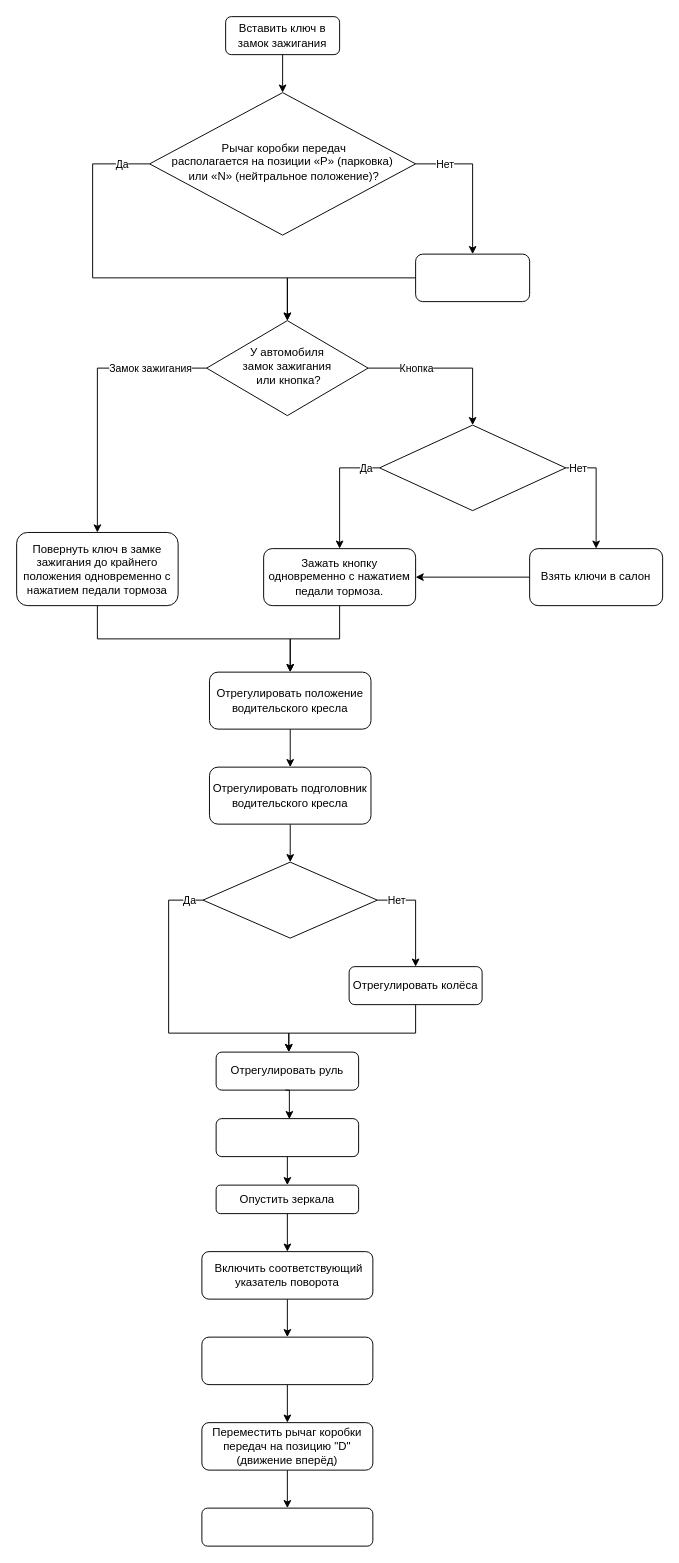
Some shapes in this 679 by 1563 pixel diagram are drawn without their labels. The shapes that lost their labels are listed below. From the top down, each one's box as (x1, y1, x2, y2) in pixels, then its label:
(415, 253, 530, 302): Переключить на необходимую передачу
(379, 424, 566, 511): Ключи от автомобиля в салоне?
(202, 861, 377, 938): Колеса автомобиля стоят ровно?
(215, 1118, 359, 1157): Отрегулировать зеркала
(201, 1336, 373, 1385): Повернуть рулевое колесо в соответствующую сторону
(201, 1507, 373, 1546): Нажать педаль газа
